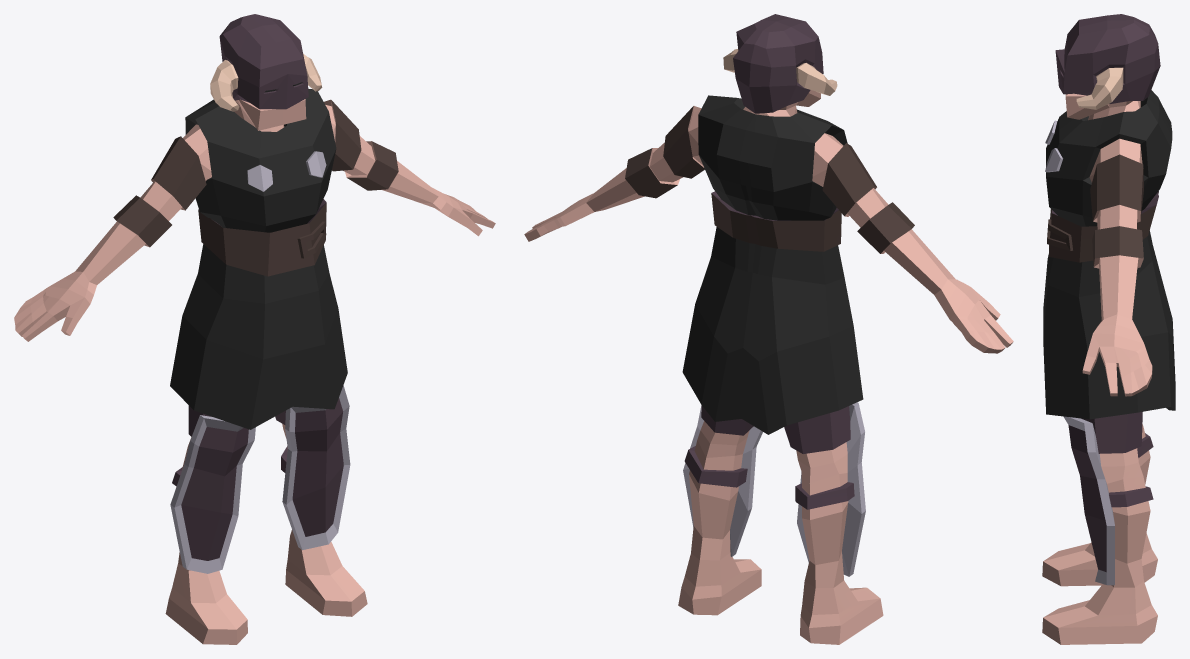
File: Berserker.fbx
3 renders of one model, left to right at view 1: azimuth 30°, elevation 25°; view 2: azimuth 150°, elevation 25°; view 3: azimuth 270°, elevation 25°, orthographic.
Visible parts, largest first — view 1: Berserker; view 2: Berserker; view 3: Berserker.
Part boxes in pixels (x1=…): Berserker: x1=14, y1=14, x2=495, y2=644; Berserker: x1=524, y1=14, x2=1013, y2=644; Berserker: x1=1042, y1=14, x2=1175, y2=644.
Bounding box in the file's own units: 425 × 503 × 104.
